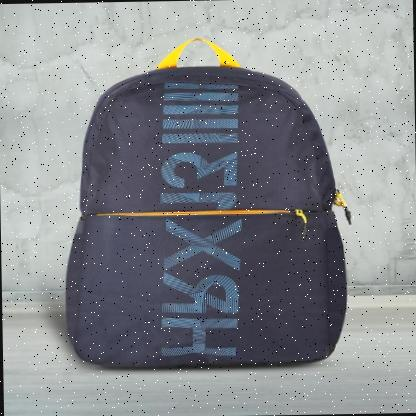bag: (53, 54, 361, 376)
